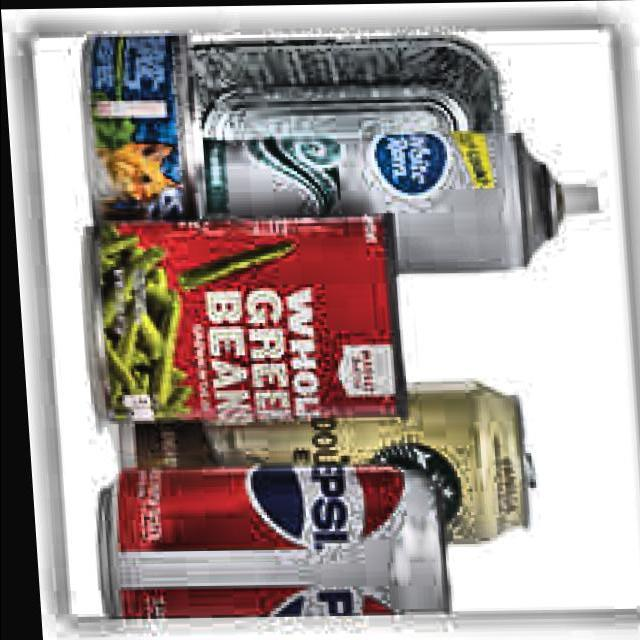Aluminum Can: (101, 376, 538, 557), (67, 208, 411, 432), (186, 126, 604, 280), (79, 456, 446, 626), (185, 28, 514, 169), (70, 22, 206, 228)
